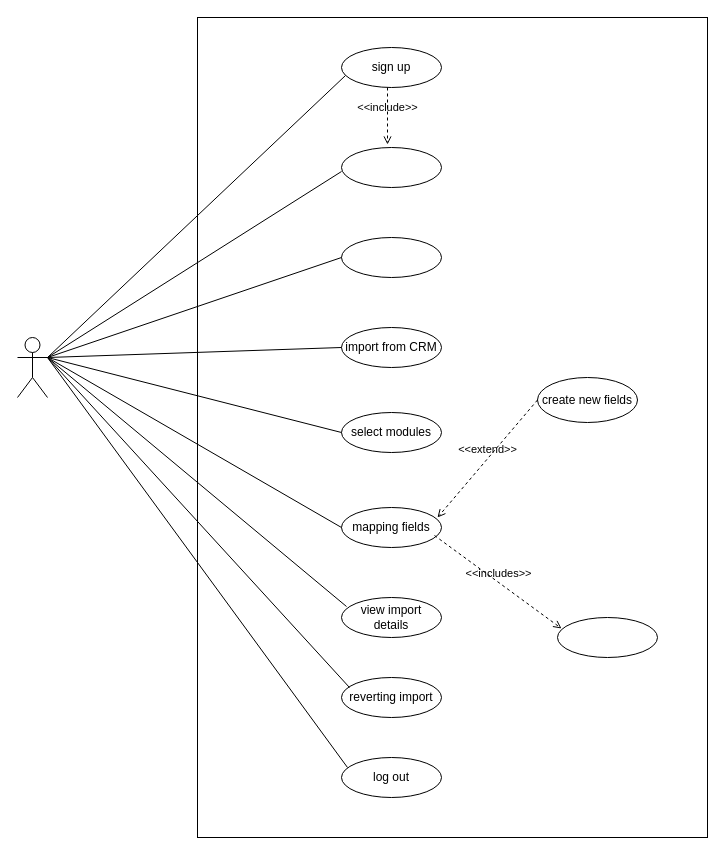
Image size: 725x855. Some labels were removed from this diagram. Each missing label, with the centre of its shape:
"Actor" goes at (32,367).
"handling data" goes at (607,637).
"login" goes at (391,167).
"user profile" goes at (391,257).
